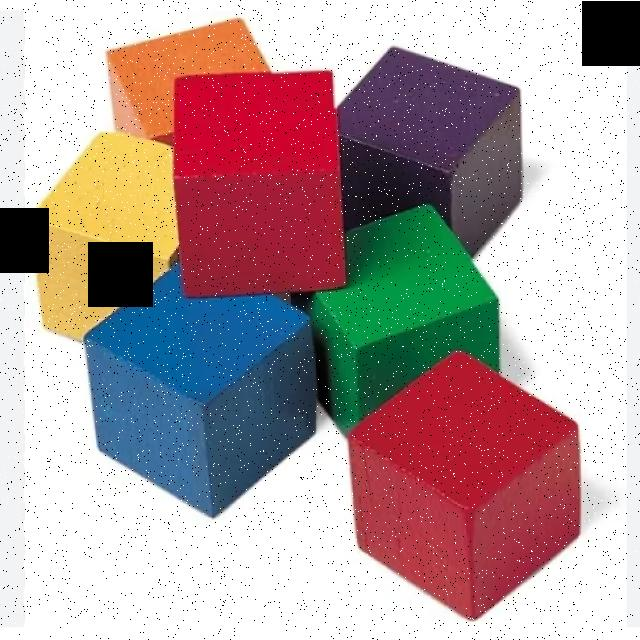bluecube: (81, 261, 316, 518)
green cube: (289, 198, 497, 440)
red cube: (343, 350, 583, 621), (172, 70, 347, 292)
